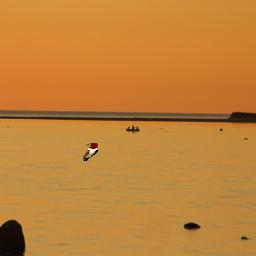Woodpecker: (84, 143, 99, 162)
